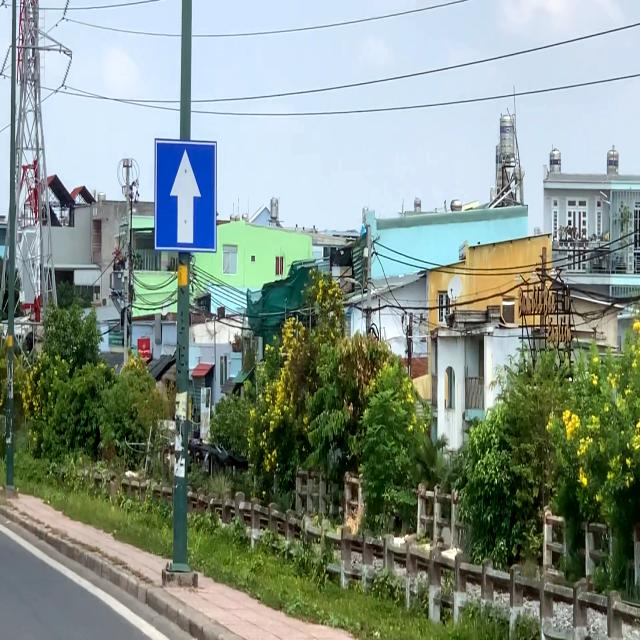R.407a: (155, 136, 217, 255)
